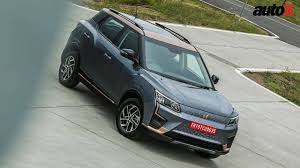XUV 400: (59, 7, 240, 162)
